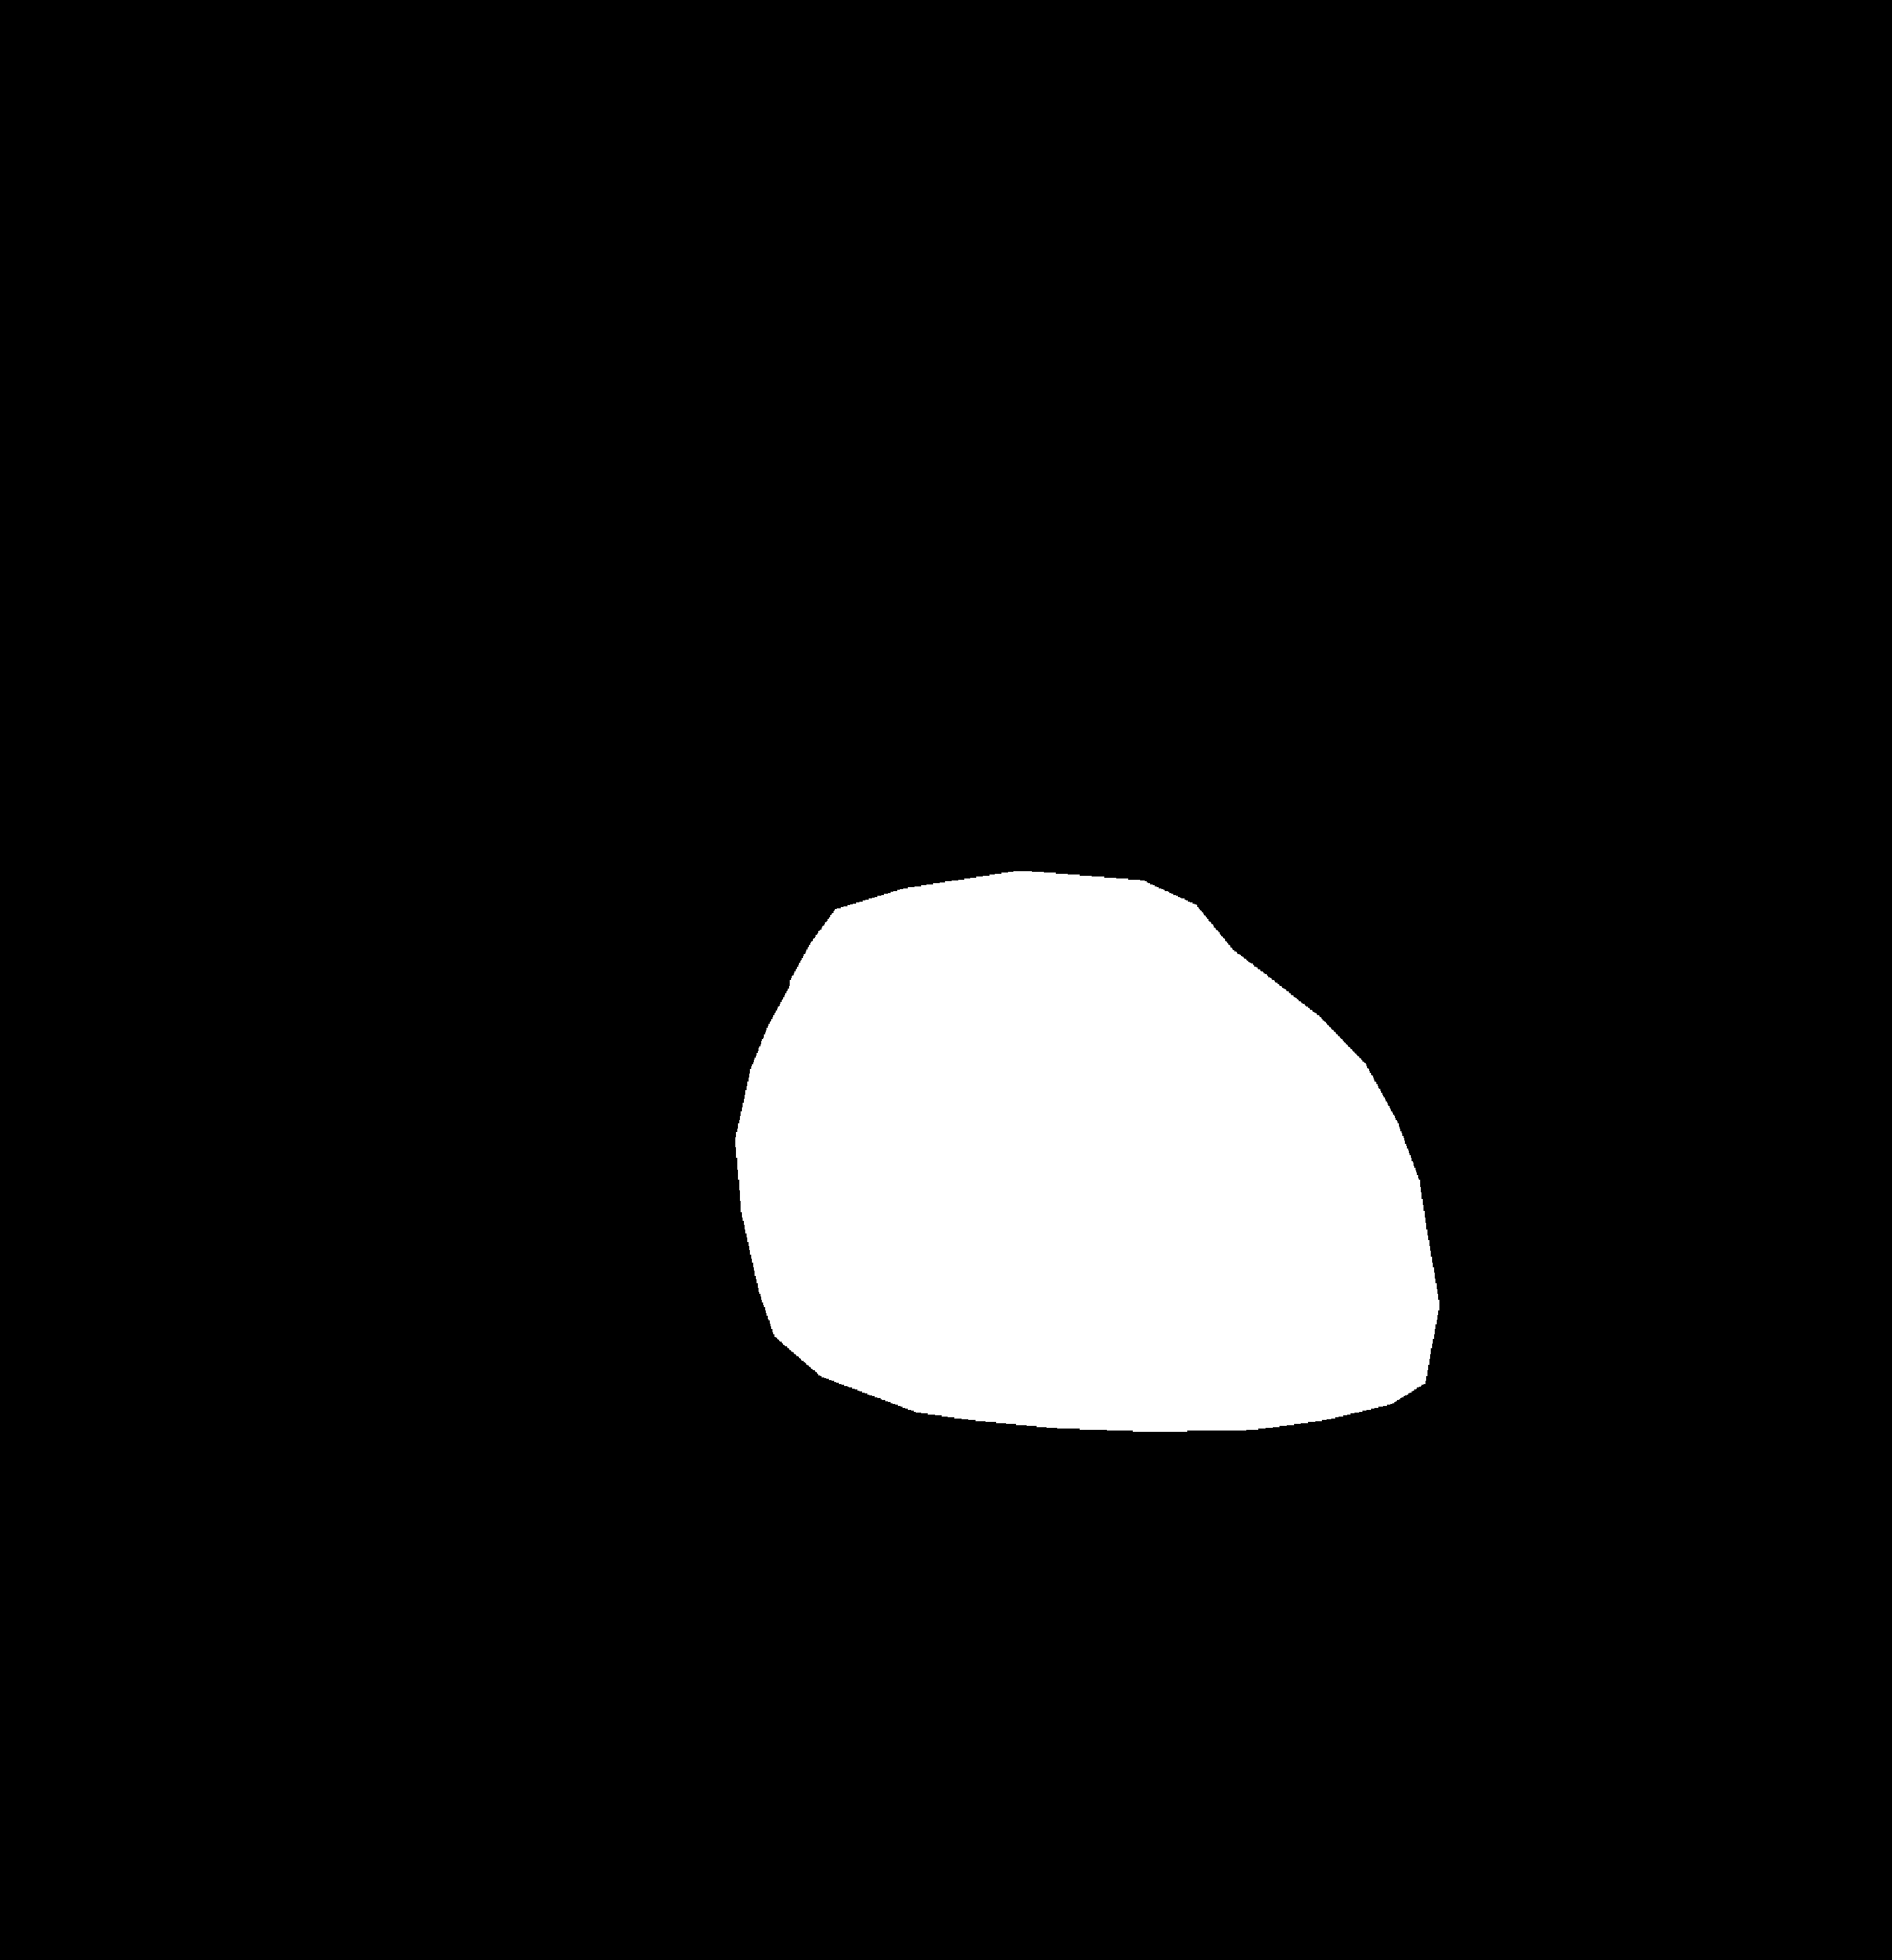heart: (737, 957, 1433, 1472)
left_lung: (252, 219, 835, 1529)
right_lung: (1012, 206, 1652, 1535)
